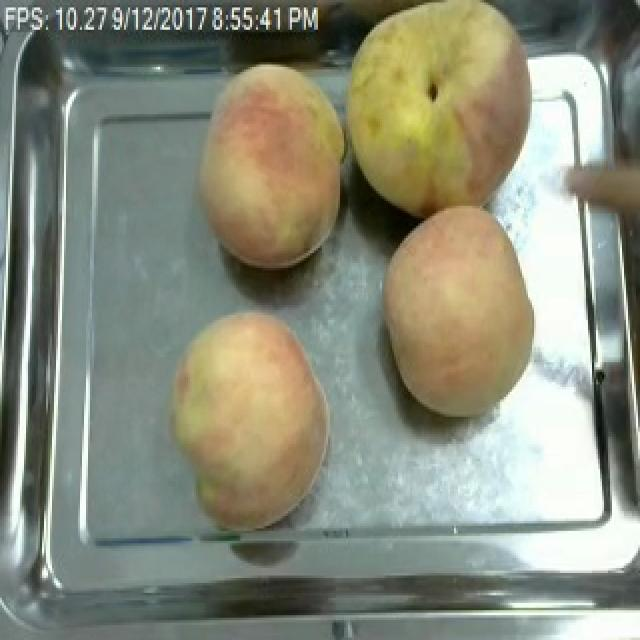Fruit: (336, 0, 544, 223), (162, 305, 340, 536), (372, 201, 546, 427), (190, 54, 352, 276)
